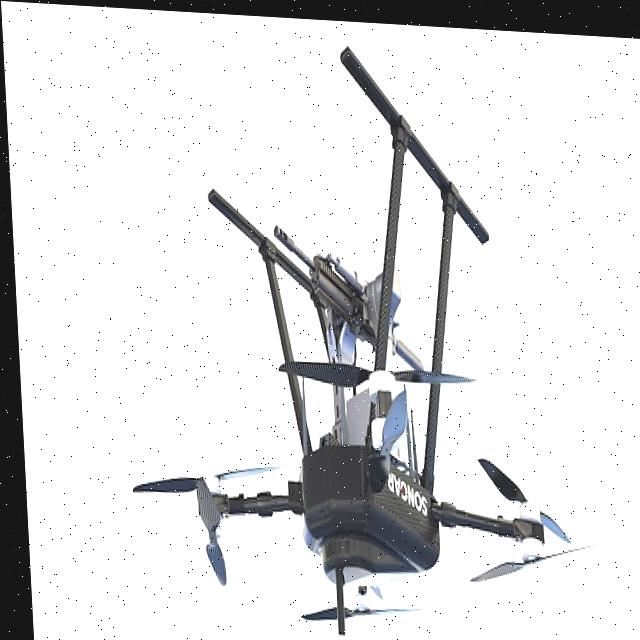drone: (106, 329, 584, 622)
